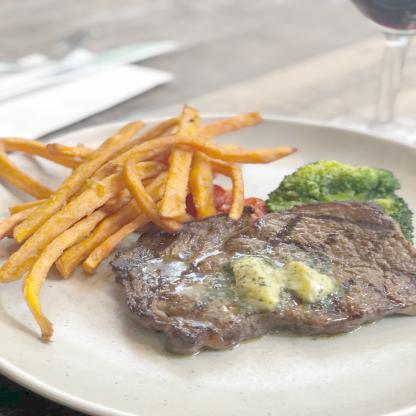Carne: (234, 207, 415, 330), (114, 218, 266, 349)
